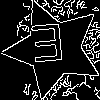E: (28, 23, 67, 71)
